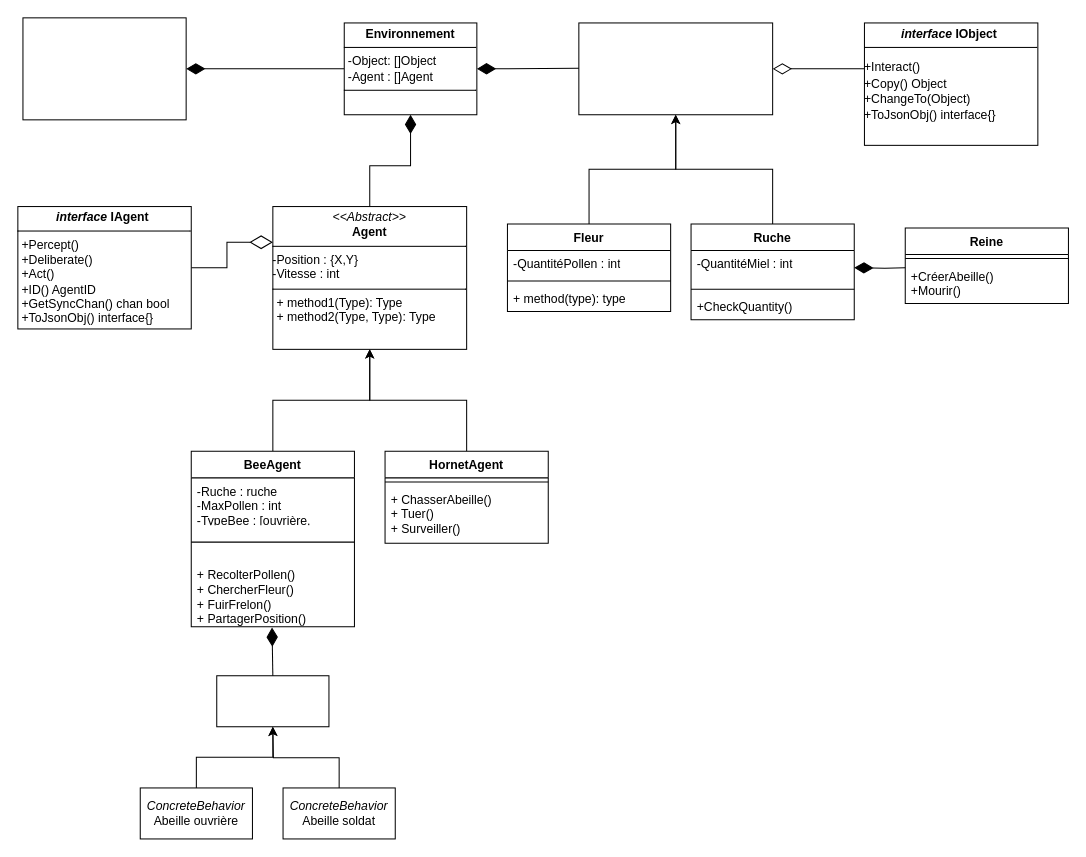
This 1086x857 diagram has some shape labels left out. Each missing label, with the centre of its shape:
"<<Abstract>> Object -Position : {X,Y} -Vitesse : int" goes at point 675,68.
"Simulation + Env : environnement + Run() + Log() + Print()" goes at point 104,68.
"«interface» BeeBehavior" goes at point 272,701.
